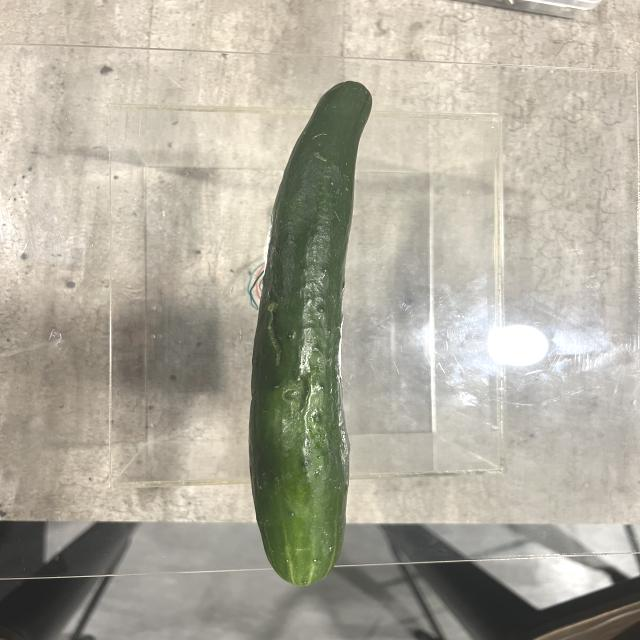cucumber: (246, 77, 370, 590)
